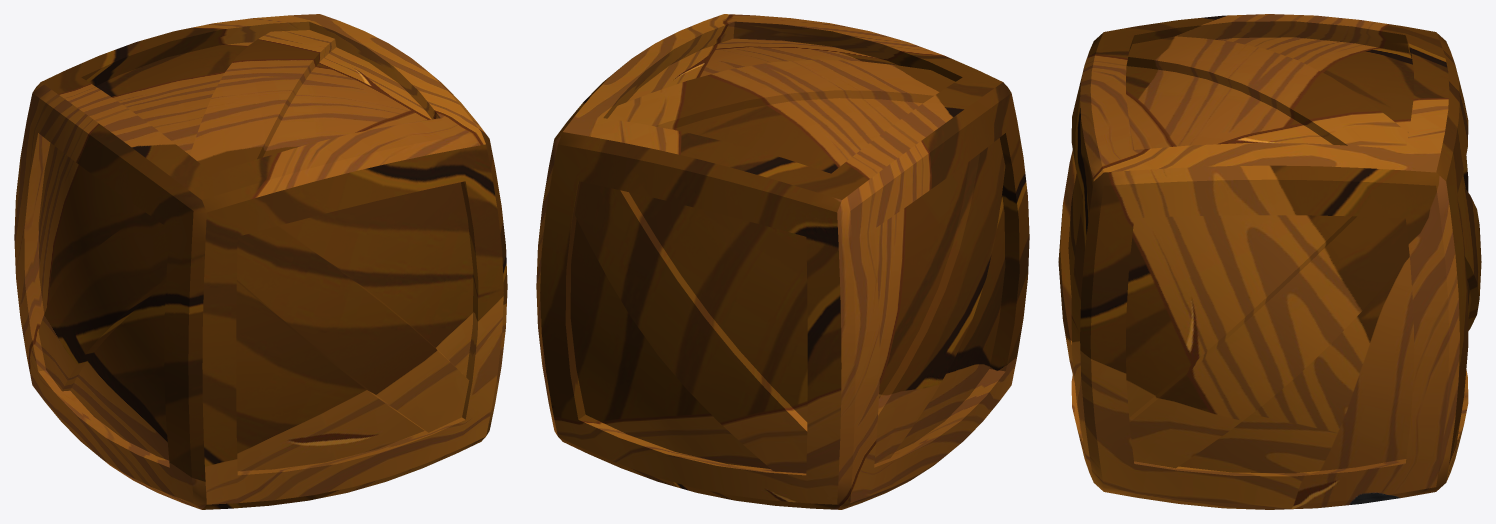
File: LCR_Caisse.fbx
3 views of the same model, side by side, from view 1: azimuth 30°, elevation 25°; view 2: azimuth 150°, elevation 25°; view 3: azimuth 270°, elevation 25° (orthographic). The views are drawn at different scales.
Parts seen in each view (by area): view 1: Cube; view 2: Cube; view 3: Cube.
Boxes of the visible parts, x1,y1,x2,y2 form: Cube: (14, 14, 507, 509); Cube: (536, 14, 1029, 509); Cube: (1058, 14, 1481, 509).
Size of the model in its own units: 386 by 386 by 386.
